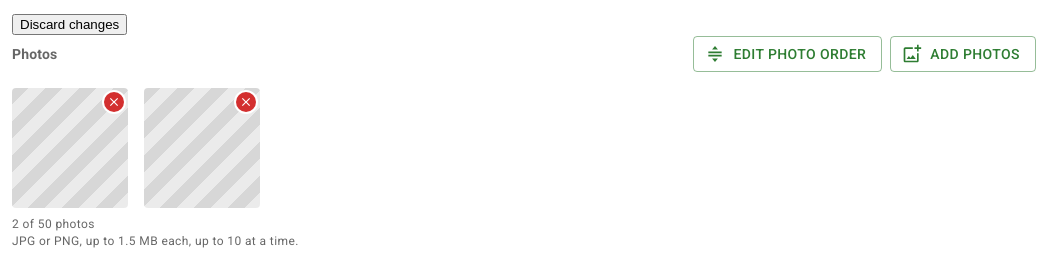
Test case: PhotosField › delete › arms only one photo at a time
Click the button named "Remove photo a.jpg" at (114, 102), box [102,90,126,114]
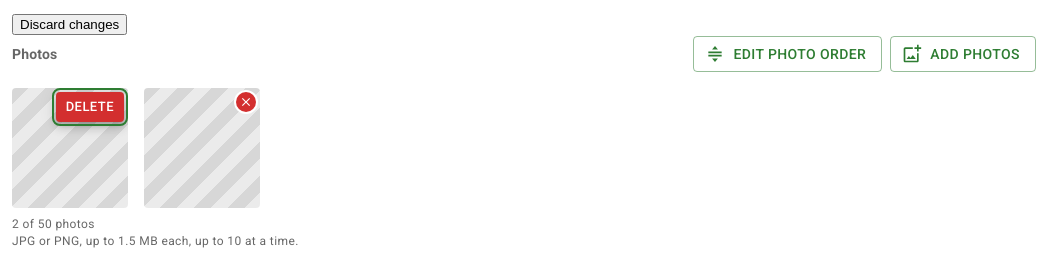
Click the button named "Remove photo b.jpg" at (246, 102), box [234,90,258,114]
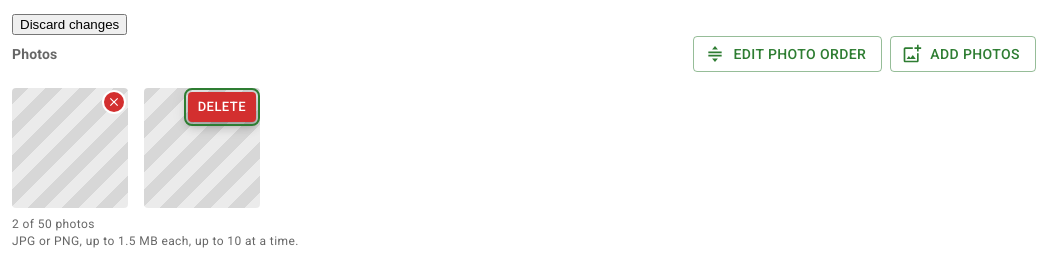
Expected: the number of buttons named "Confirm remove" is 1, [188,92,256,122]
Result: the button with aria-label "Confirm remove photo b.jpg" is shown at [188,92,256,122]
